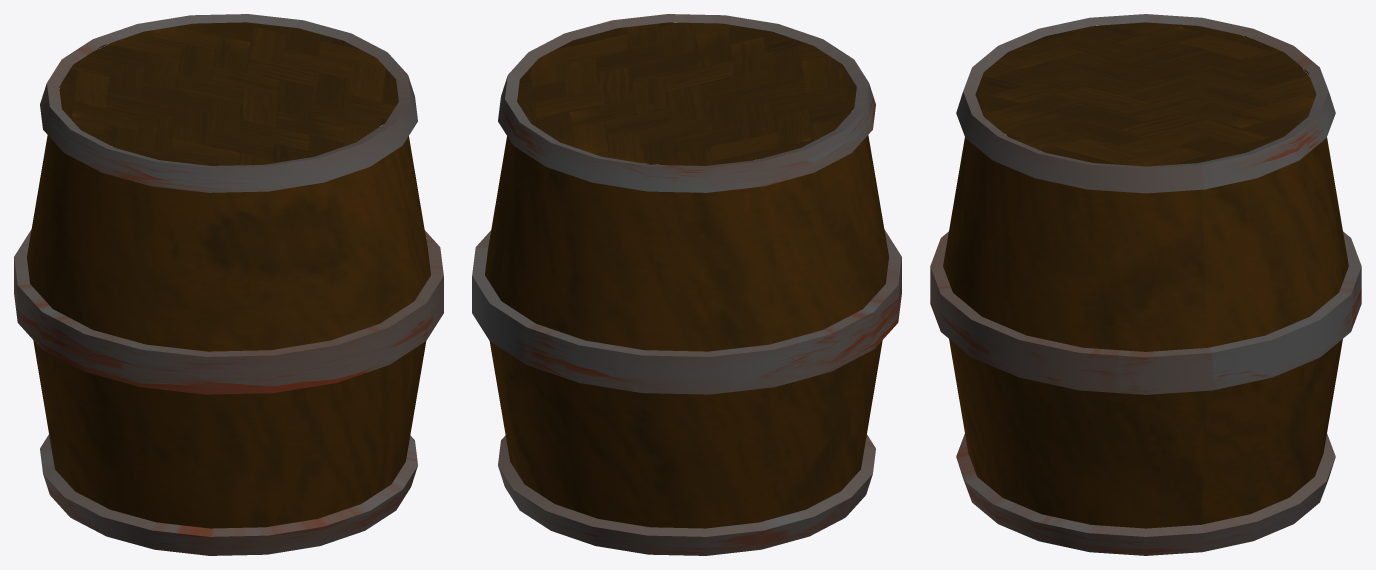
File: barrel.fbx
3 views of the same model, side by side, from view 1: azimuth 30°, elevation 25°; view 2: azimuth 150°, elevation 25°; view 3: azimuth 270°, elevation 25° (orthographic).
Parts seen in each view (by area): view 1: pCylinder1, pCylinder2; view 2: pCylinder1, pCylinder2; view 3: pCylinder1, pCylinder2.
Boxes of the visible parts, x1,y1,x2,y2 form: pCylinder1: [27, 22, 430, 528]; pCylinder2: [14, 14, 443, 555]; pCylinder1: [485, 22, 888, 528]; pCylinder2: [472, 14, 901, 555]; pCylinder1: [943, 22, 1348, 528]; pCylinder2: [930, 14, 1361, 555].
Size of the model in its own units: 7.5 by 7.43 by 7.5.
Materials: 2 (2 with a texture image).
